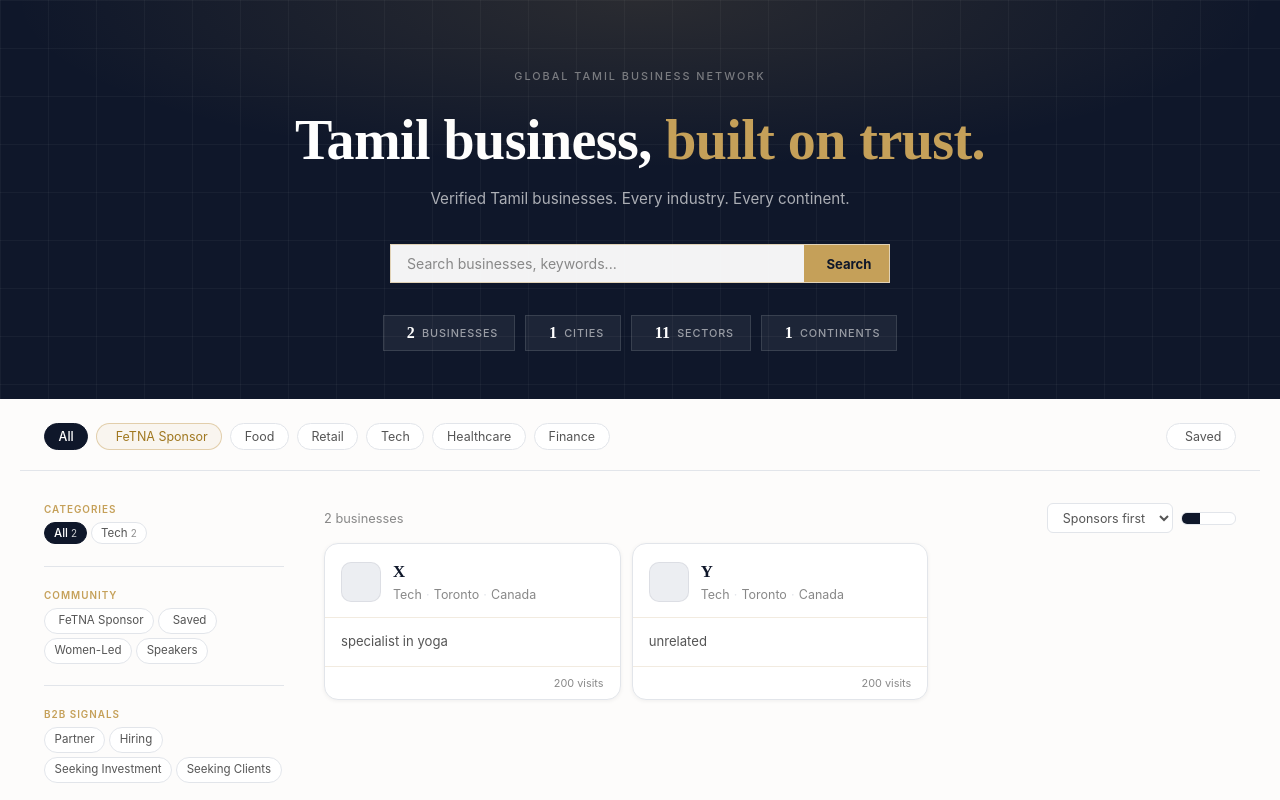
DirectoryClient — search › filters by description
In the field: (598, 264) [391,245,804,282], type "yoga"
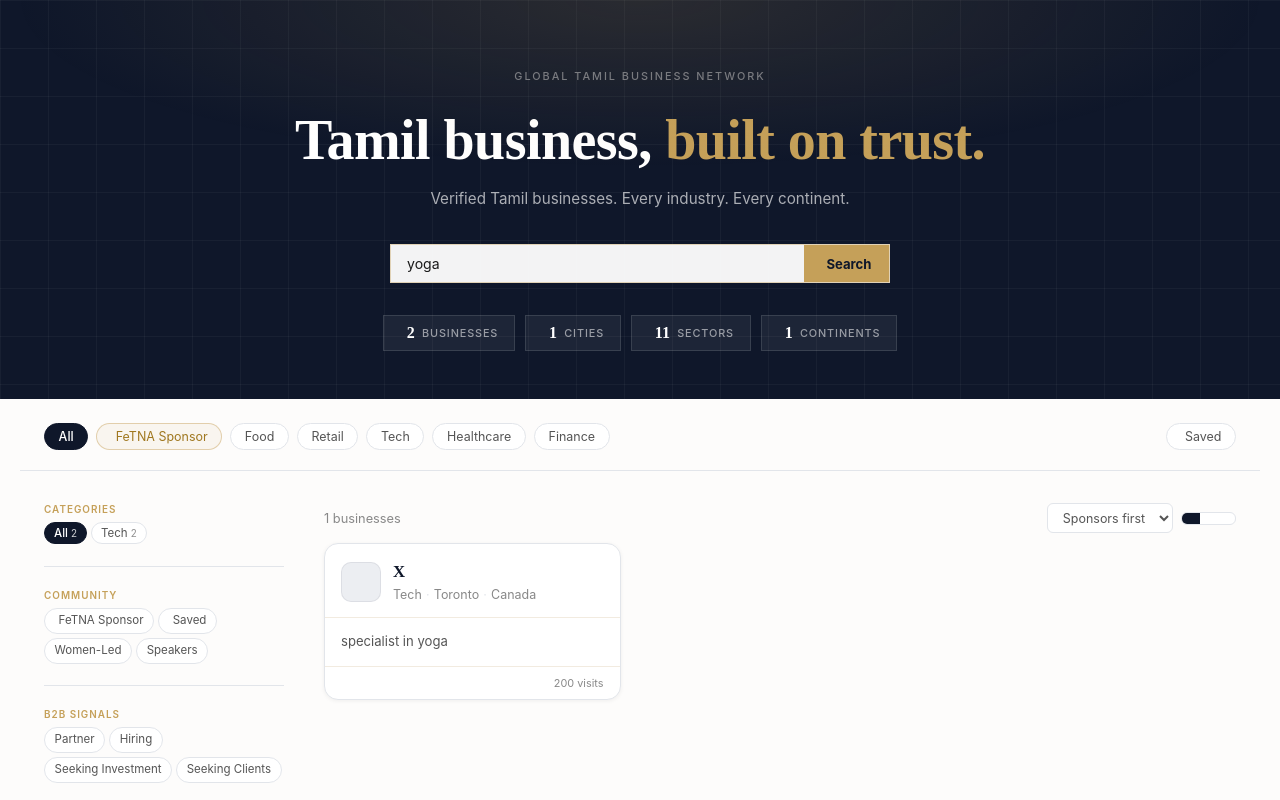
Result: the text "1 businesses" is shown at [324,511,401,526]
